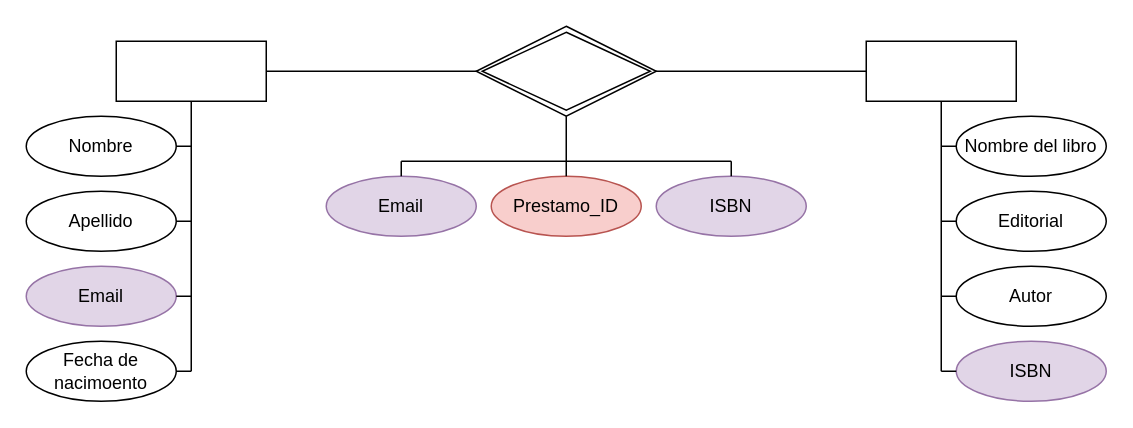
Image size: 1133x428. Some labels were removed from this diagram. Each missing label, with the centre of its shape:
"Biblioteca" goes at point (940, 70).
"Lectores" goes at point (190, 70).
"Prestamos" goes at point (565, 70).
